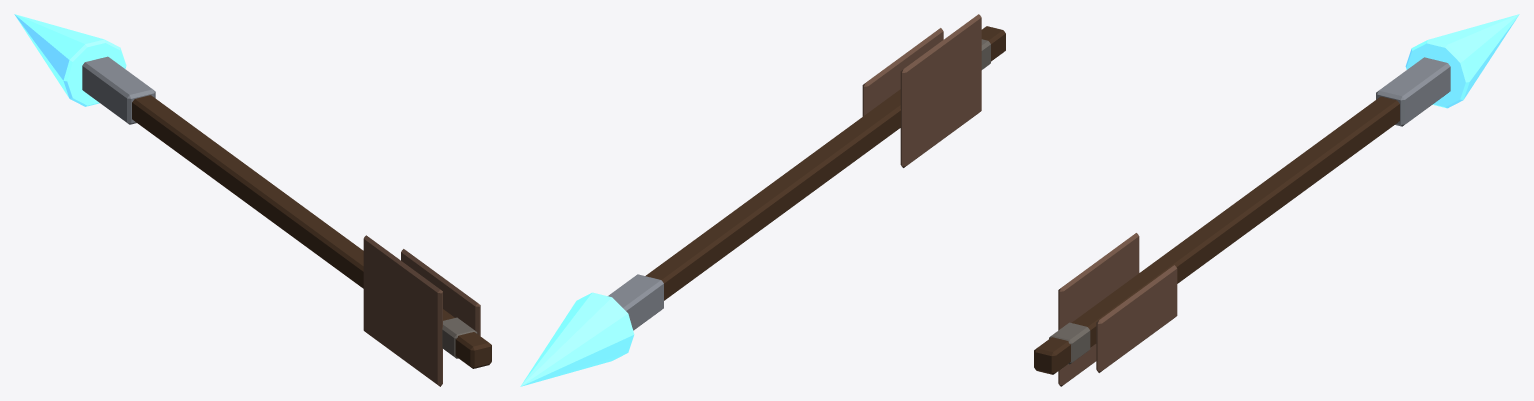
The model's file is mdl_weapon_bolt_v1.glb.
The picture shows the model from 3 angles, left to right: view 1: azimuth 30°, elevation 25°; view 2: azimuth 150°, elevation 25°; view 3: azimuth 330°, elevation 25°; orthographic projection.
Visible parts, largest first — view 1: GEO_Weapon_Bolt; view 2: GEO_Weapon_Bolt; view 3: GEO_Weapon_Bolt.
Boxes of the visible parts, bbox=[...] form: GEO_Weapon_Bolt: bbox=[14, 14, 491, 386]; GEO_Weapon_Bolt: bbox=[520, 14, 1005, 386]; GEO_Weapon_Bolt: bbox=[1034, 14, 1519, 386].
Bounding box in the file's own units: 0.0353 × 0.0522 × 0.455.
